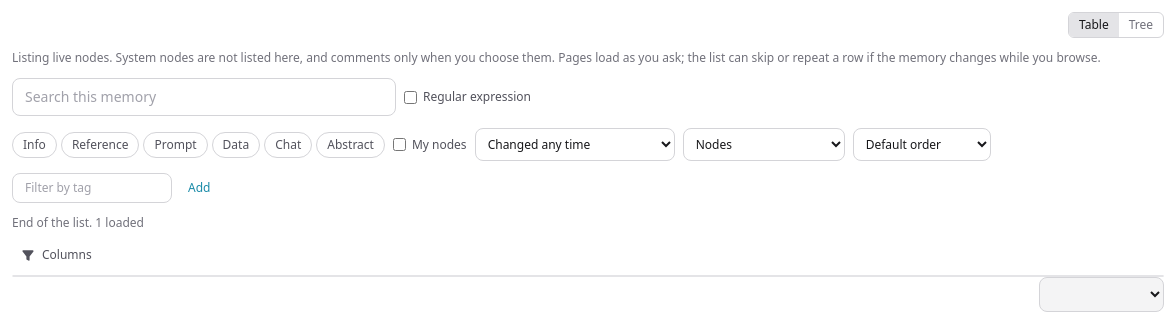
Test: regex mode and the scope-aware empty states (#2706 PR 2) › empty search under scope all says what was searched
Select "Nodes and comments" in the dropdown named "Show" at (764, 144), box [683, 128, 845, 161]
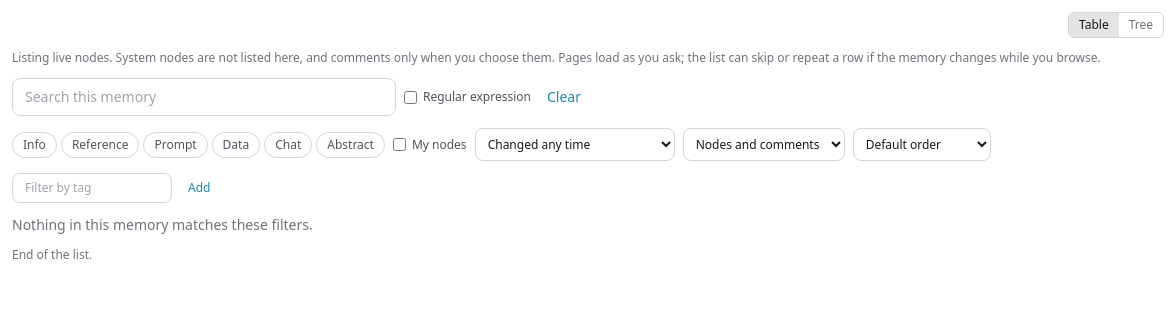
Type "zebra" into the search field with test id "nodes-search" at (204, 97), box [12, 78, 396, 116]
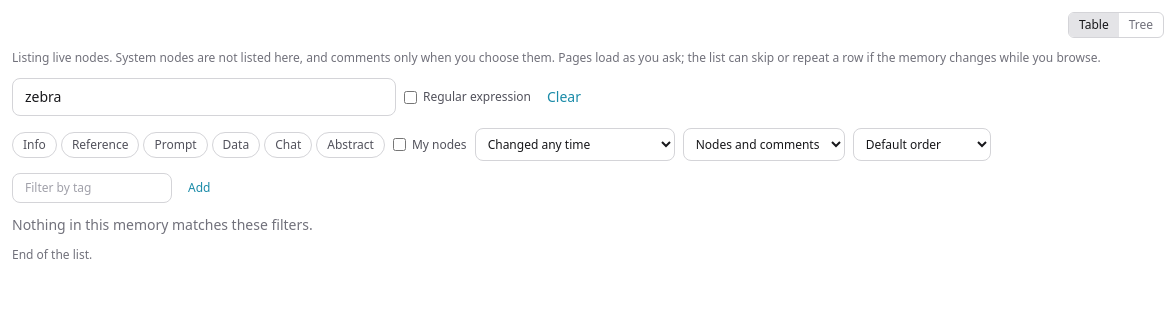
Press Enter in the search field with test id "nodes-search", box [12, 78, 396, 116]
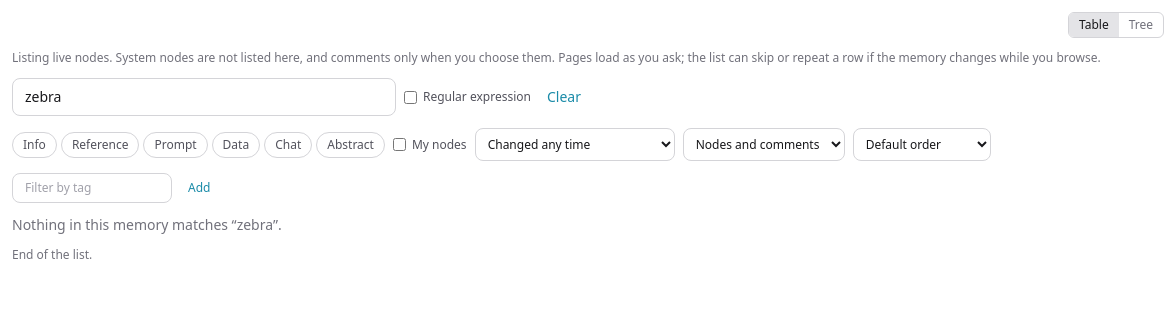
Now the text "Nothing in this memory matches “zebra”" is shown, box [12, 215, 282, 234]
